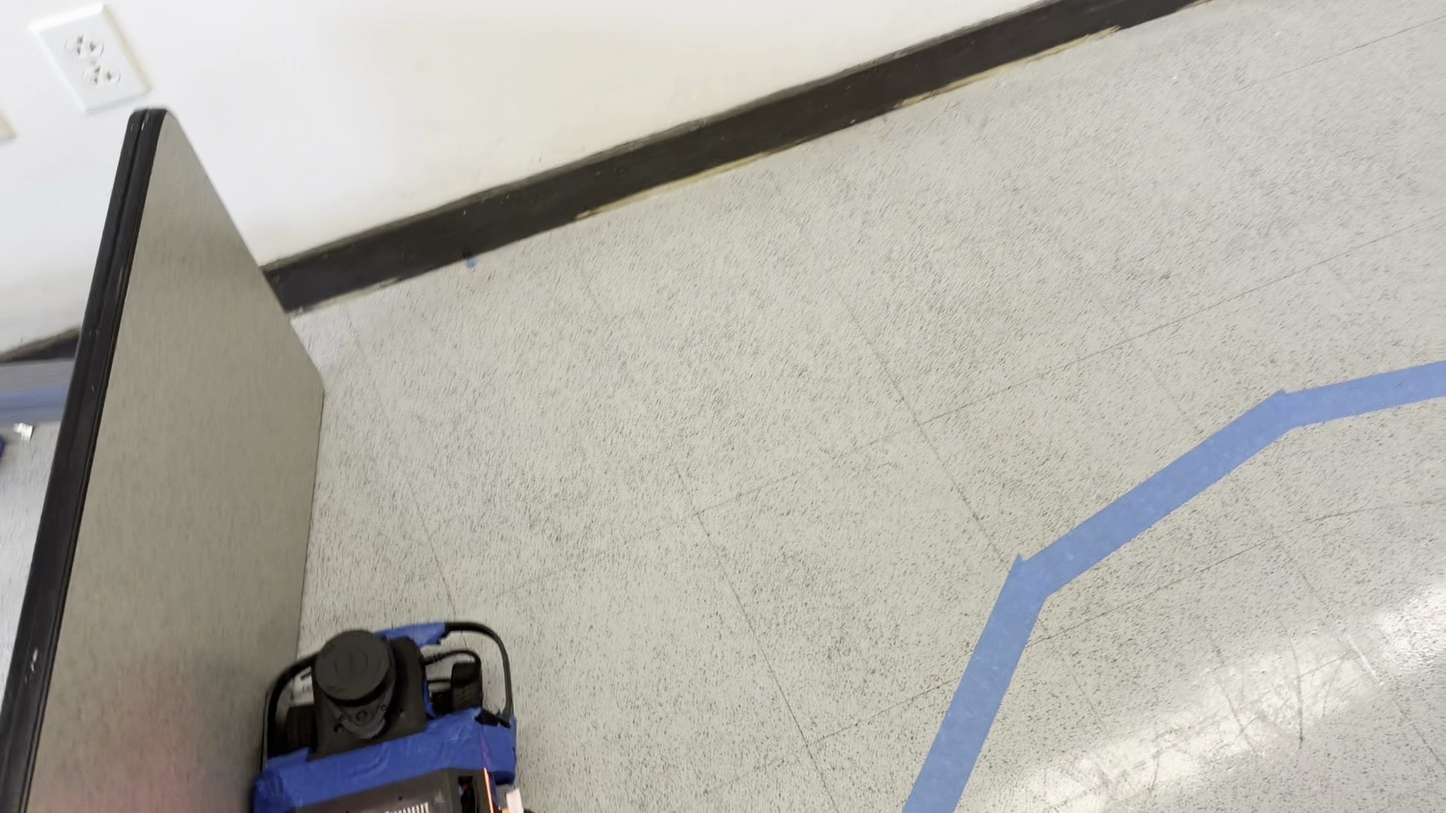racecar: (248, 622, 522, 813)
